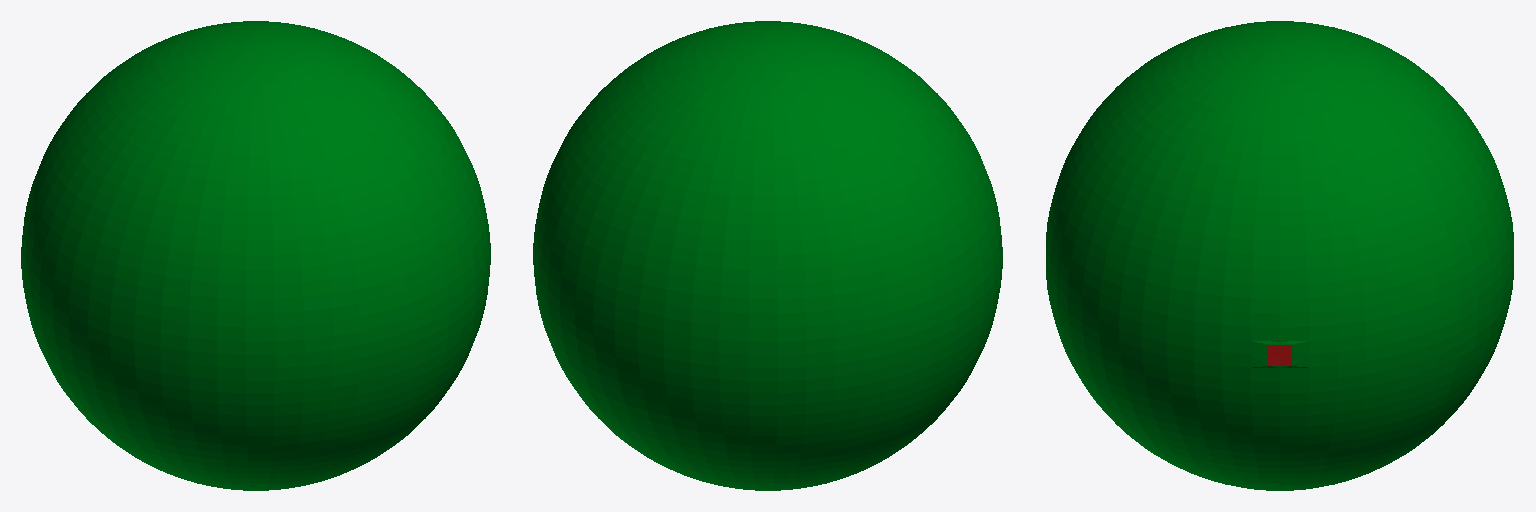
The model's file is portalFrame.obj.
The picture shows the model from 3 angles: view 1: azimuth 30°, elevation 25°; view 2: azimuth 150°, elevation 25°; view 3: azimuth 270°, elevation 25°; orthographic projection.
Bounding box in the file's own units: 20 × 20 × 19.96.